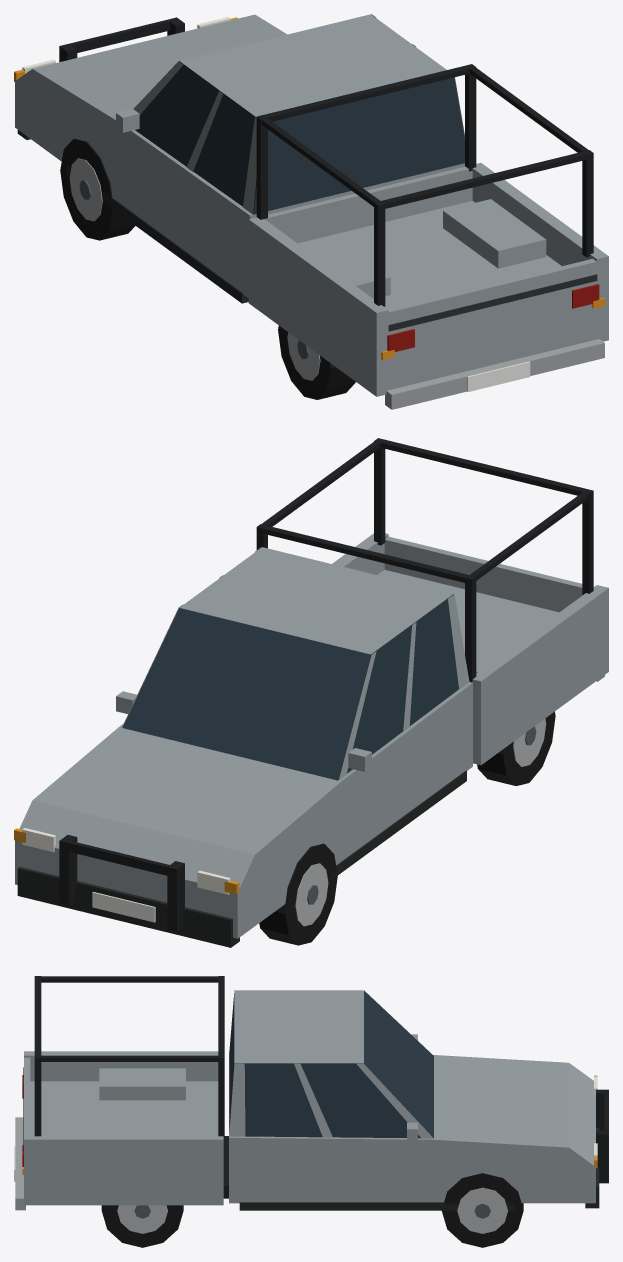
File: ute.glb
3 renders of one model, top to bottom at view 1: azimuth 30°, elevation 25°; view 2: azimuth 150°, elevation 25°; view 3: azimuth 270°, elevation 25°, orthographic. The views are drawn at different scales.
Visible parts, largest first — view 1: Ute; view 2: Ute; view 3: Ute.
Part boxes in pixels (left/top/right/bottom): Ute: left=15, top=14, right=608, bottom=409; Ute: left=15, top=438, right=608, bottom=947; Ute: left=14, top=976, right=608, bottom=1247.
Bounding box in the file's own units: 2.08 × 1.92 × 5.51.
